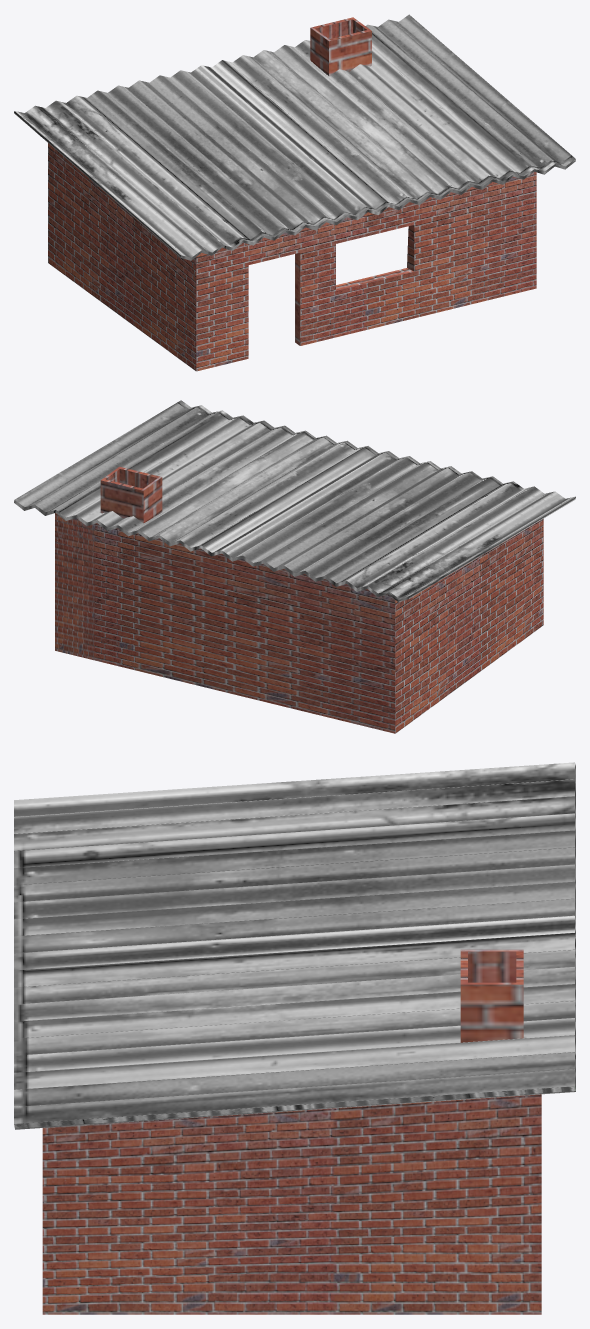
File: House V3.FBX
3 renders of one model, top to bottom at view 1: azimuth 30°, elevation 25°; view 2: azimuth 150°, elevation 25°; view 3: azimuth 270°, elevation 25°, orthographic. The views are drawn at different scales.
Visible parts, largest first — view 1: Shack v2 base; view 2: Shack v2 base; view 3: Shack v2 base.
Part boxes in pixels (<box>): Shack v2 base: <box>14,14,575,371</box>; Shack v2 base: <box>14,400,575,733</box>; Shack v2 base: <box>14,762,575,1314</box>.
Size of the model in its own units: 331 by 141 by 242.
